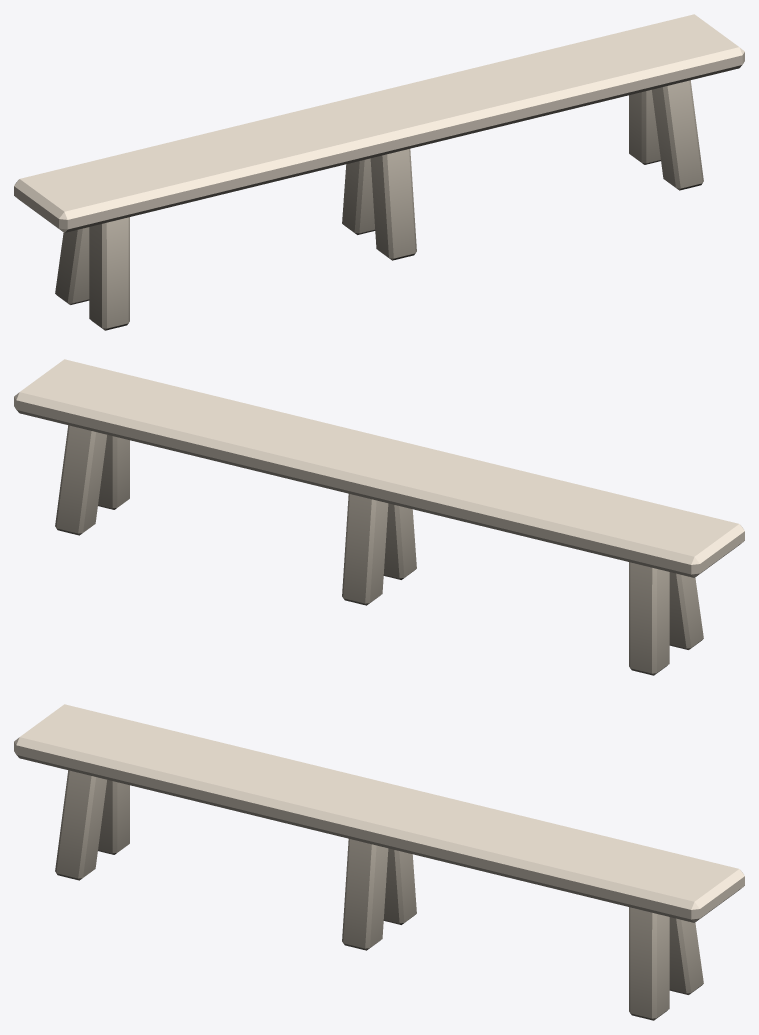
Rendered from SM_VKI_Prop_Form_300.fbx.
3 renders of one model, top to bottom at view 1: azimuth 30°, elevation 25°; view 2: azimuth 150°, elevation 25°; view 3: azimuth 330°, elevation 25°, orthographic.
Parts seen in each view (by area): view 1: SM_VKI_Prop_Form_300.001; view 2: SM_VKI_Prop_Form_300.001; view 3: SM_VKI_Prop_Form_300.001.
Part boxes in pixels (x1,y1,x2,y2): SM_VKI_Prop_Form_300.001: [14, 14, 744, 330]; SM_VKI_Prop_Form_300.001: [14, 359, 744, 675]; SM_VKI_Prop_Form_300.001: [14, 704, 744, 1020].
Bounding box in the file's own units: 2.7 × 0.48 × 0.35.
